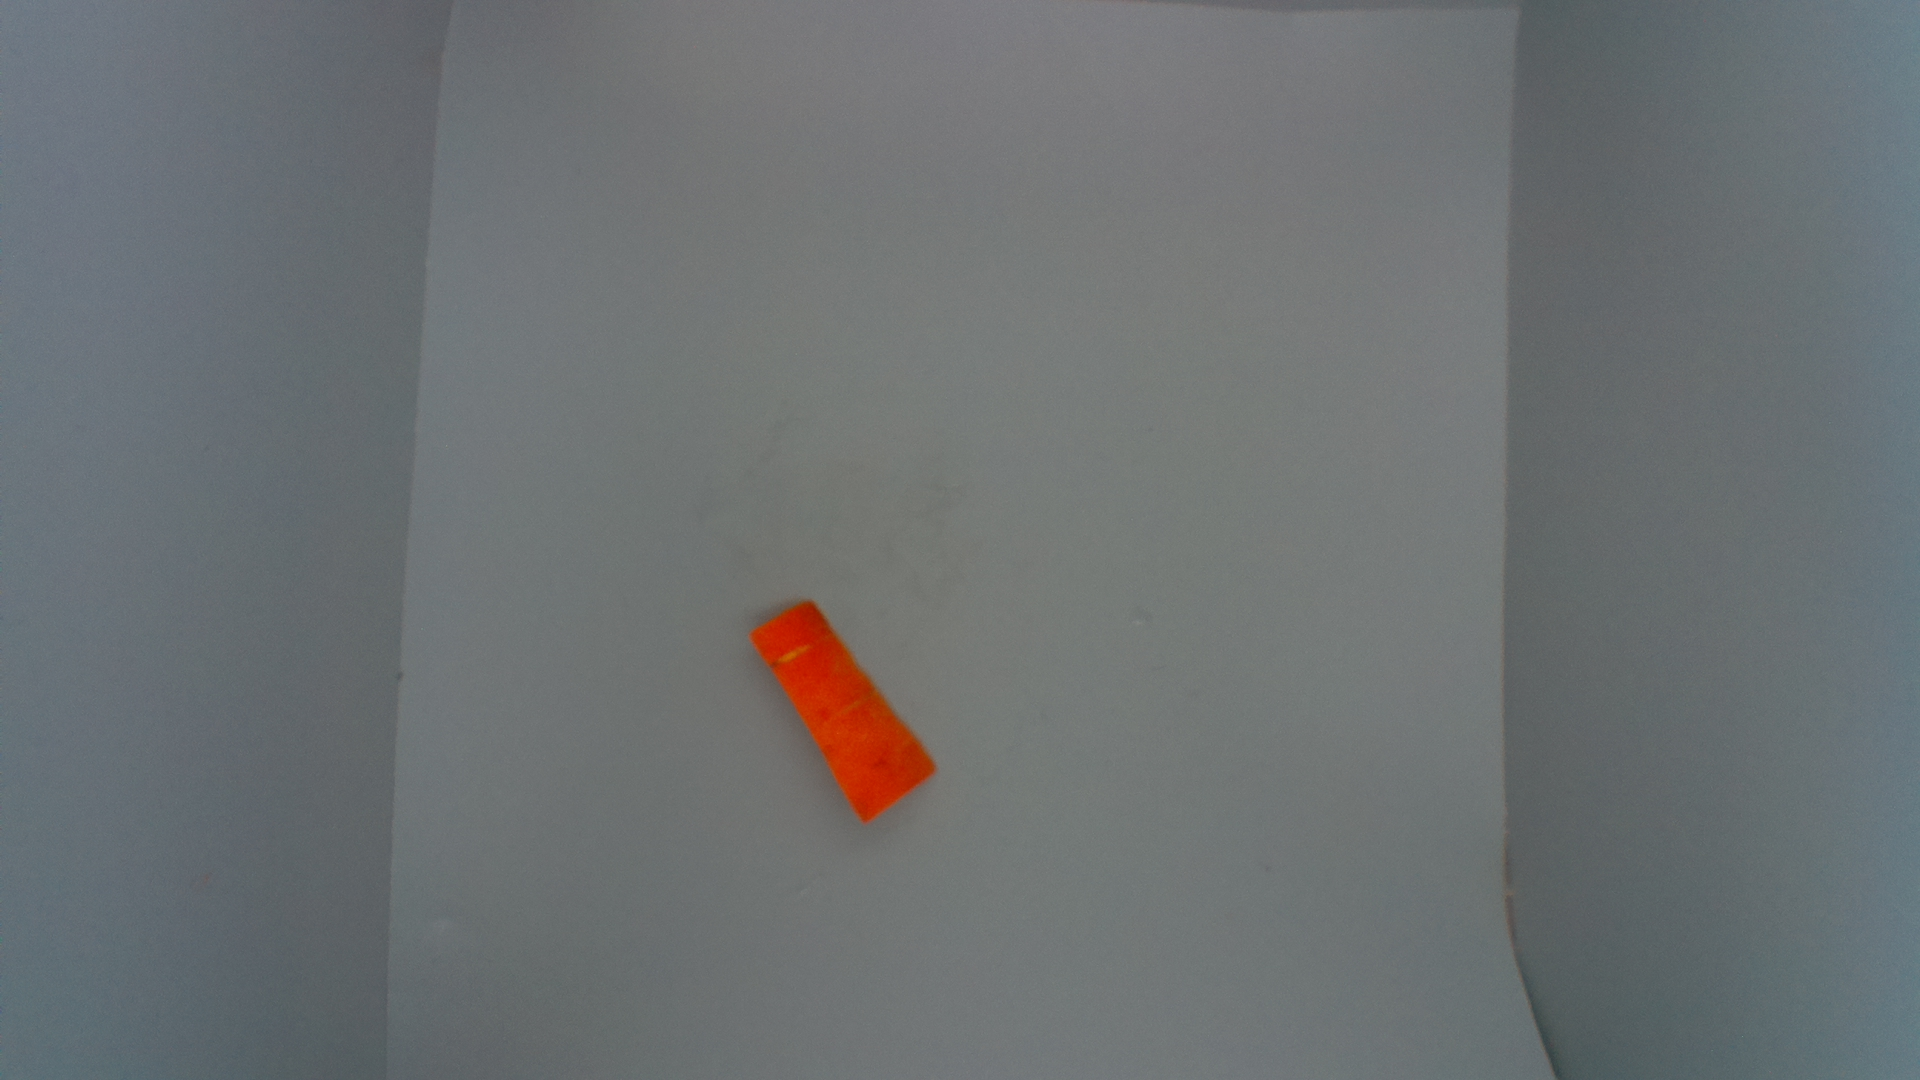carrot: (748, 603, 943, 829)
